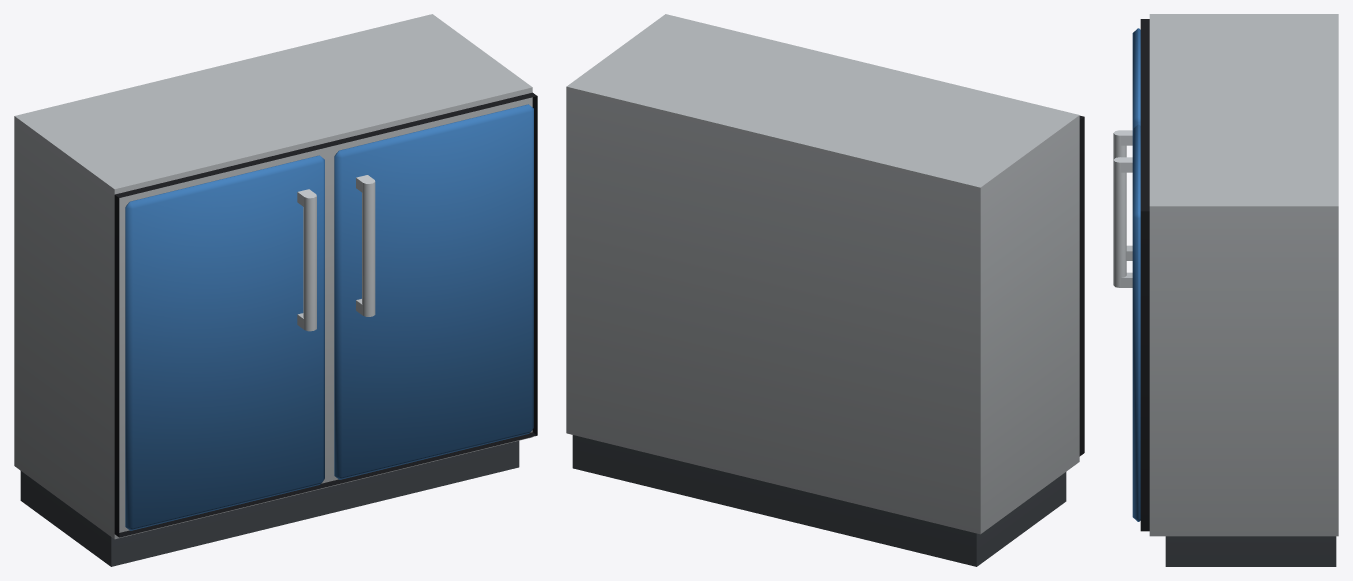
The model's file is SM_GarageCab_Base_Door_10.glb.
3 views of the same model, side by side, from view 1: azimuth 30°, elevation 25°; view 2: azimuth 150°, elevation 25°; view 3: azimuth 270°, elevation 25° (orthographic). The views are drawn at different scales.
Parts seen in each view (by area): view 1: SM_GarageCab_Base_Door_10; view 2: SM_GarageCab_Base_Door_10; view 3: SM_GarageCab_Base_Door_10.
Part boxes in pixels (left/top/right/bottom): SM_GarageCab_Base_Door_10: left=14, top=14, right=537, bottom=566; SM_GarageCab_Base_Door_10: left=566, top=14, right=1084, bottom=566; SM_GarageCab_Base_Door_10: left=1113, top=14, right=1338, bottom=566.
Bounding box in the file's own units: 1 × 0.88 × 0.4945.
Materials: 1 (1 with a texture image).
